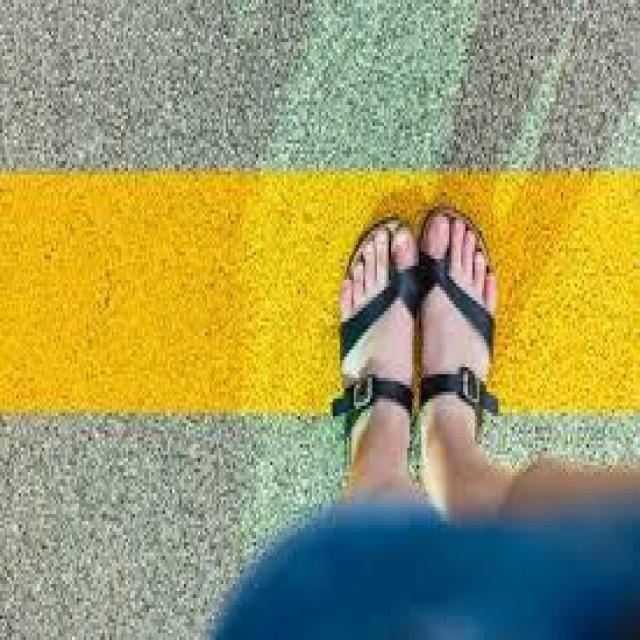No_Shoe: (340, 212, 420, 488), (424, 209, 498, 501)
